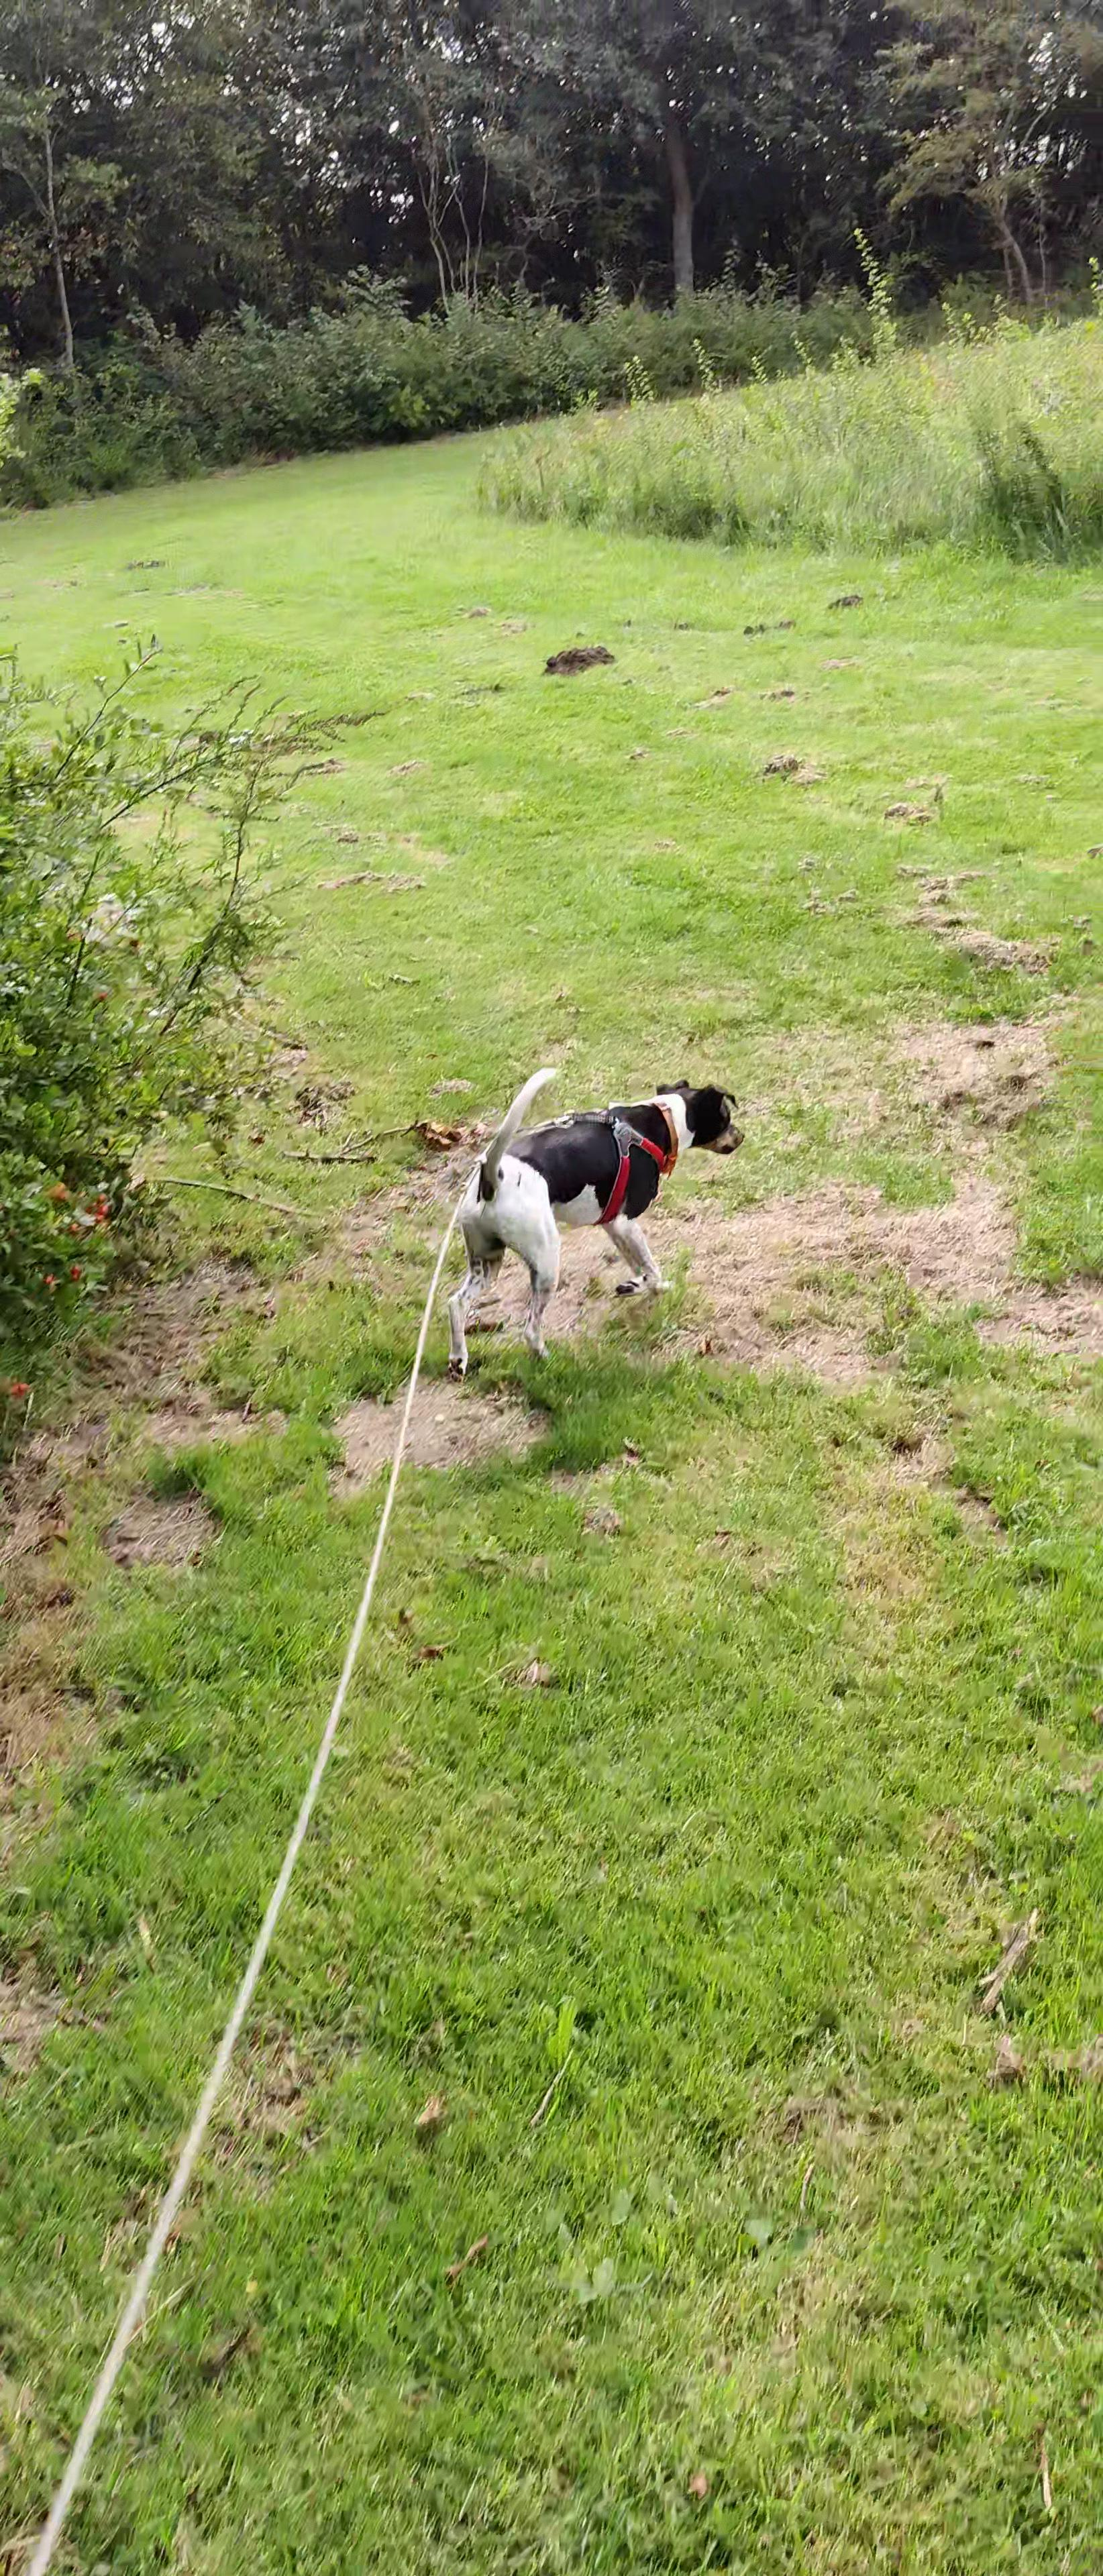Dog: (442, 1061, 750, 1385)
